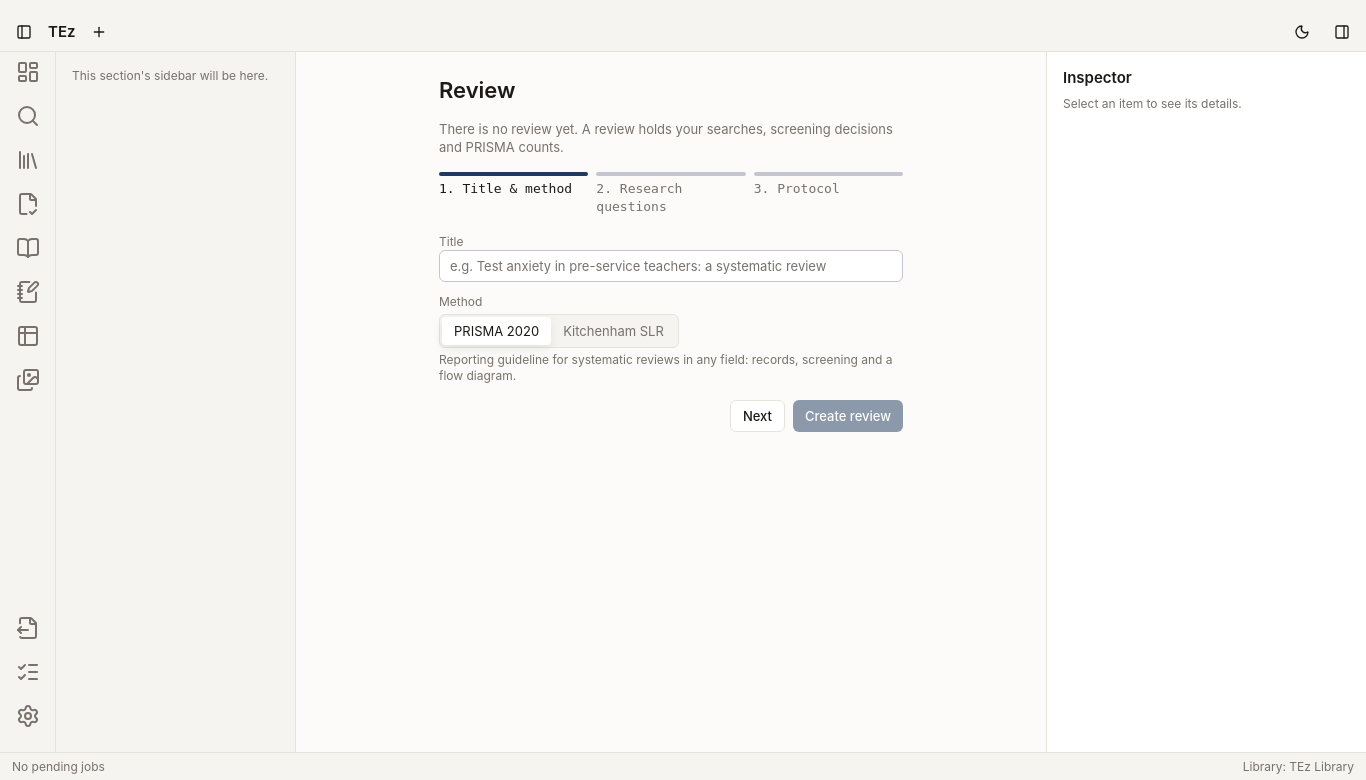
Test: the review wizard › creates a PRISMA 2020 review with its questions and protocol note
This screenshot has width=1366, height=780.
Expected: the text "There is no review yet" is shown, [439,121,893,155]
Type "LLM Kod İnceleme" into the field labelled "Title".
click(671, 266); type("LLM Kod İnceleme")  # box [439,250,903,282]
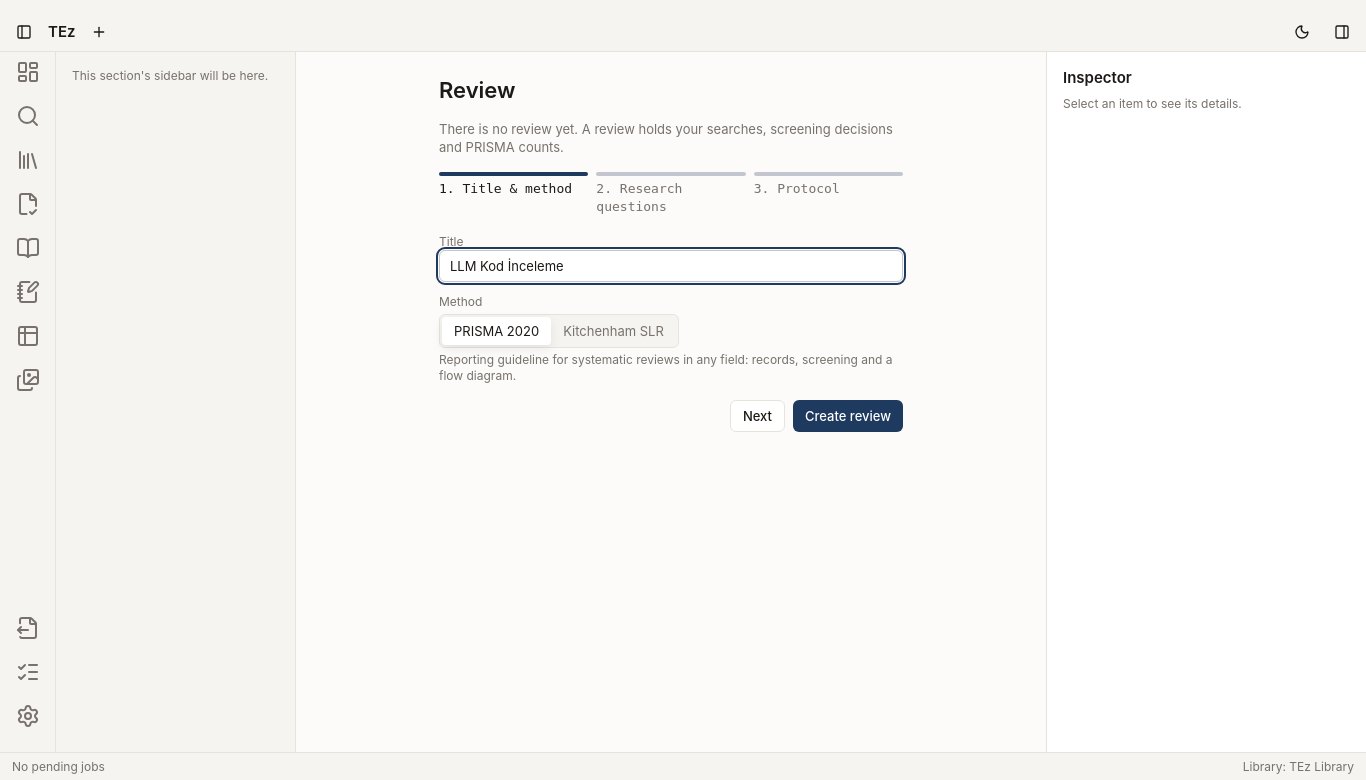
Expected: the radio button labelled "PRISMA 2020" is checked, [442,317,551,345]
Click the button "Next".
click(757, 416)  # box [730,400,785,432]
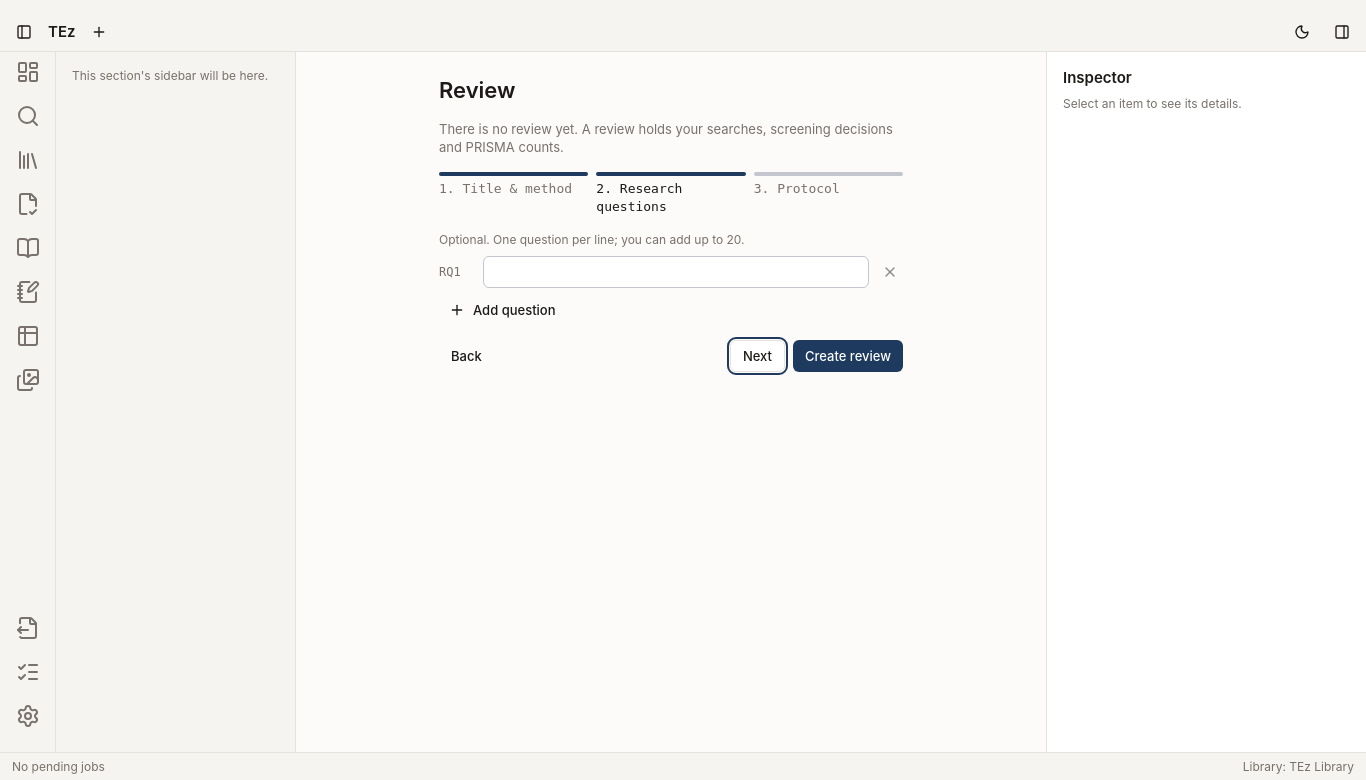
Type "Hangi teknikler kullanılıyor?" into the field named "Research question 1".
click(676, 272); type("Hangi teknikler kullanılıyor?")  # box [483,256,869,288]
Click the button "Add question".
click(502, 310)  # box [439,296,566,324]
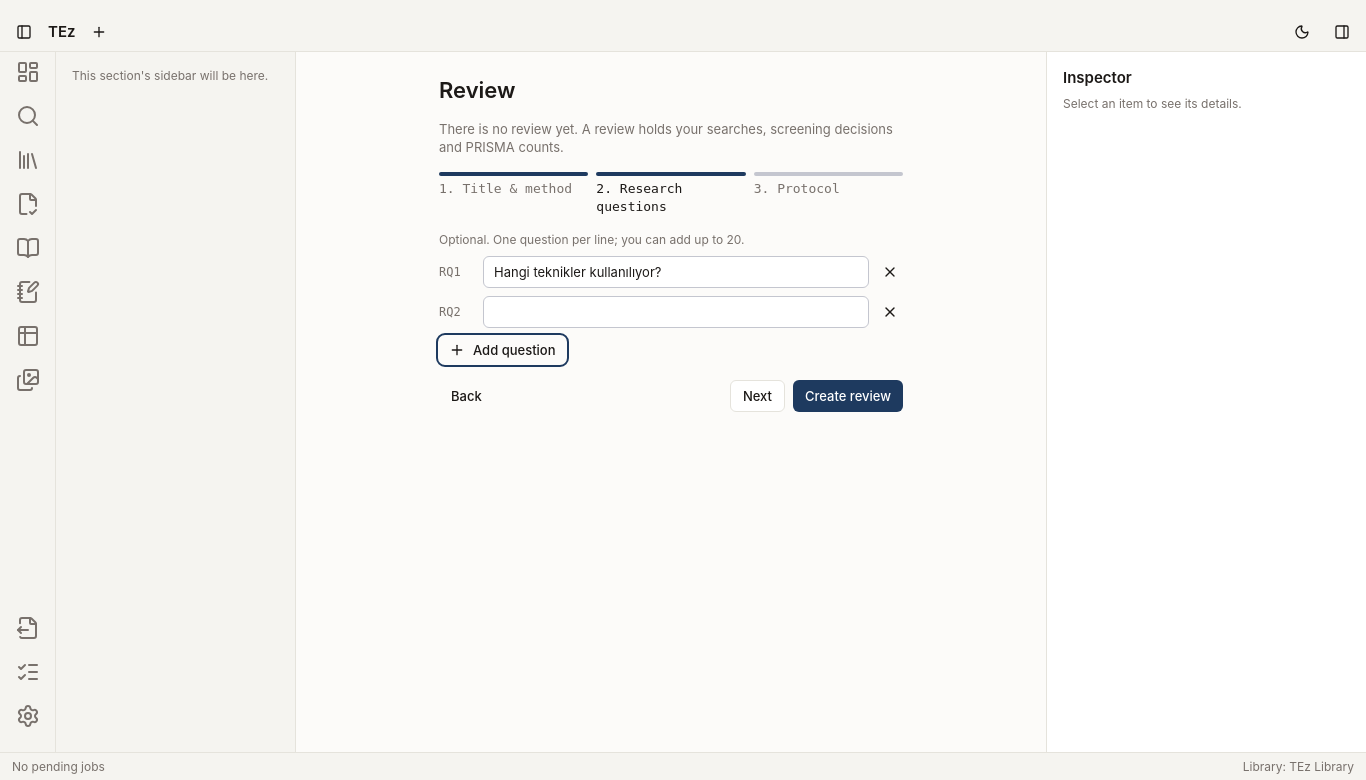
Type "Nasıl değerlendiriliyor?" into the field named "Research question 2".
click(676, 312); type("Nasıl değerlendiriliyor?")  # box [483,296,869,328]
Click the button "Next".
click(757, 396)  # box [730,380,785,412]
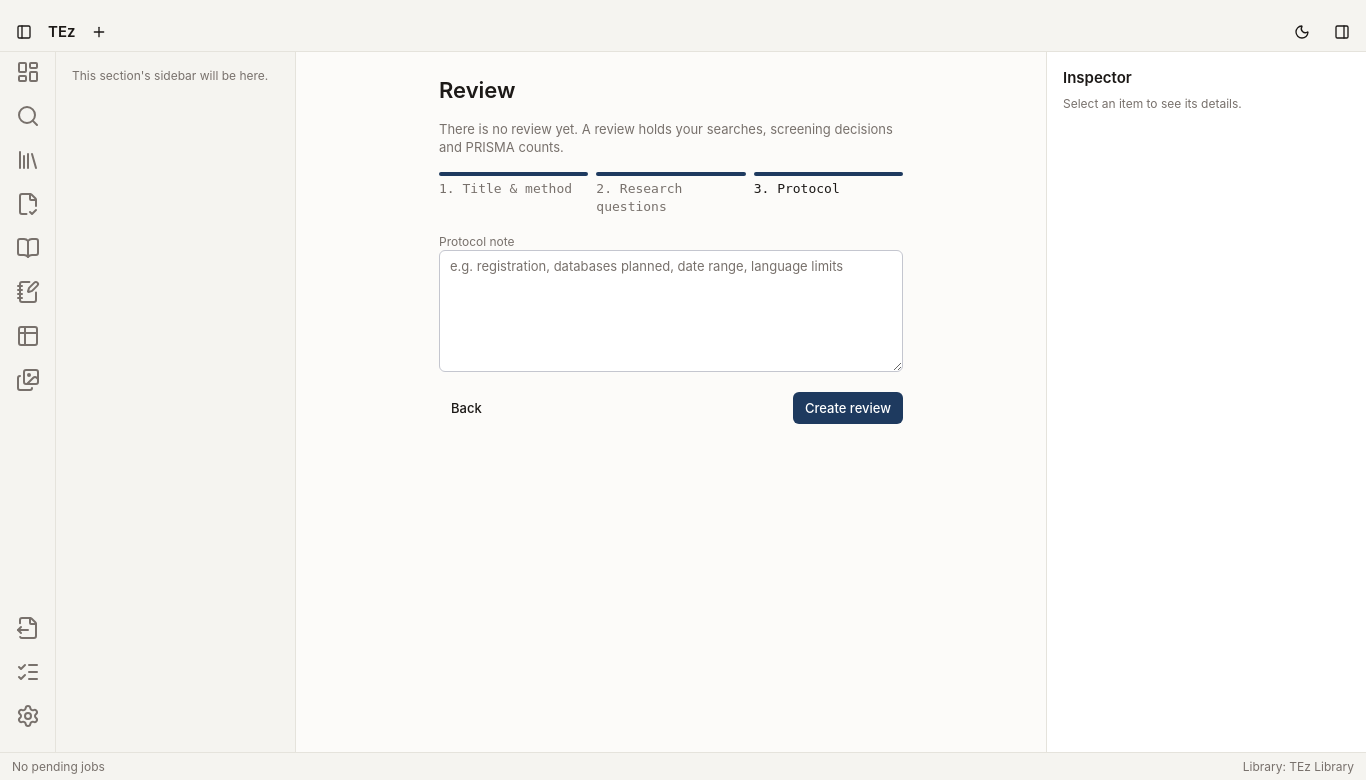
Type "OSF kaydı" into the text box labelled "Protocol note".
click(671, 311); type("OSF kaydı")  # box [439,250,903,372]
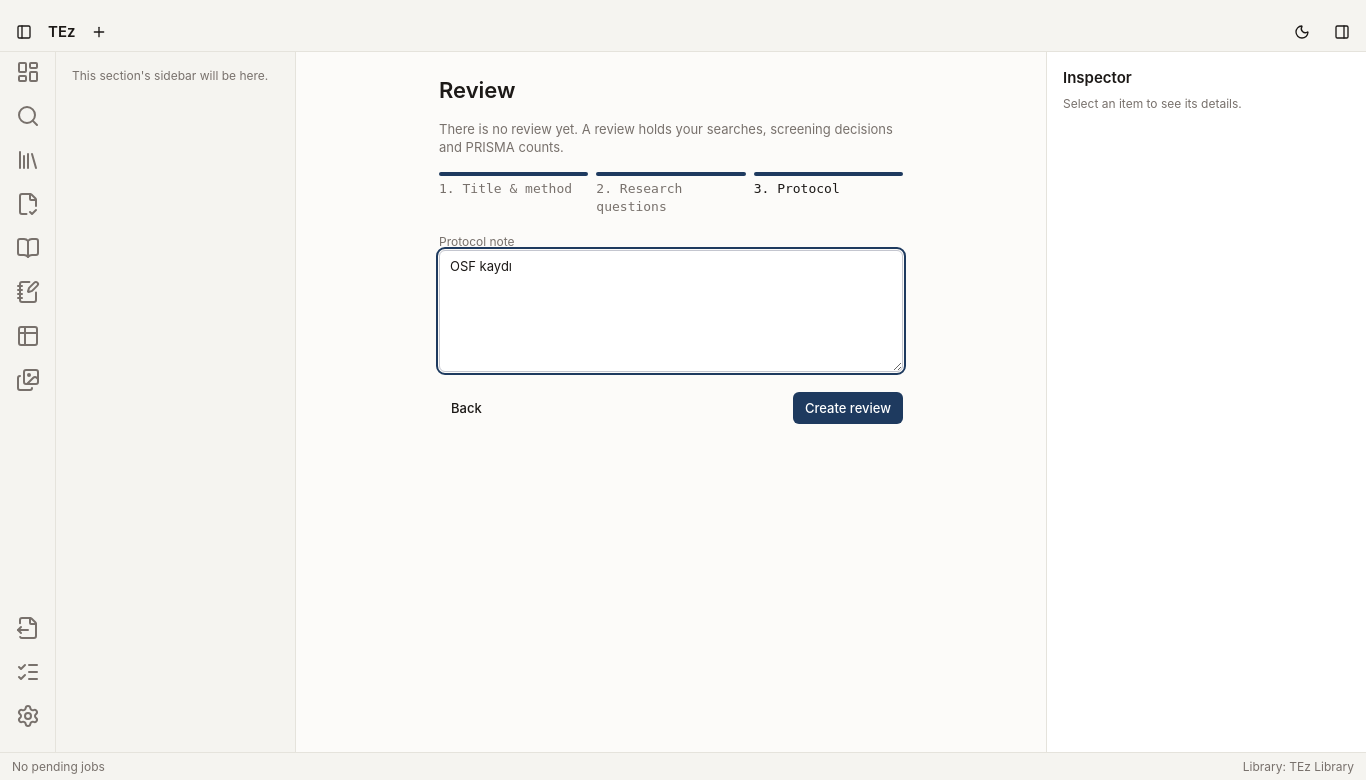
Click the button "Create review".
click(848, 408)  # box [793,392,903,424]
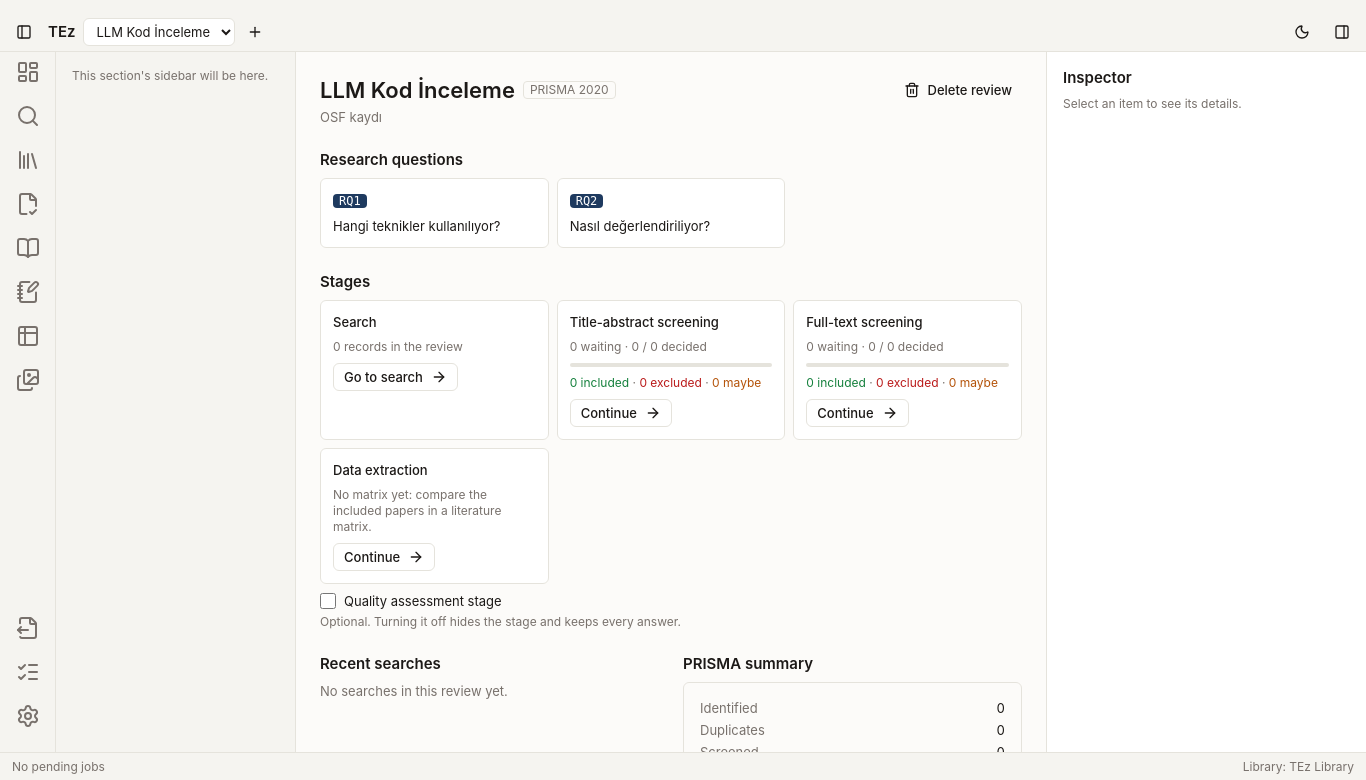
Result: the heading "LLM Kod İnceleme" is shown at [320,76,515,104]
